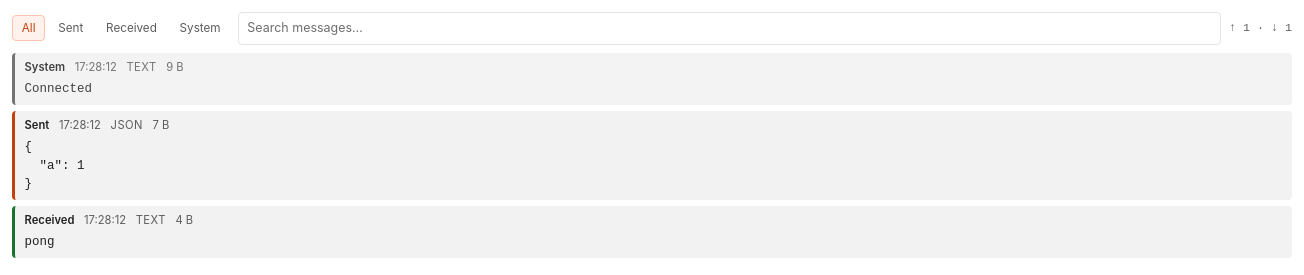
Test: MessageLog › searches payloads
This screenshot has width=1304, height=275.
Type "pong" into the search field with placeholder "Search messages…".
click(730, 28); type("pong")  # box left=238, top=12, right=1221, bottom=45
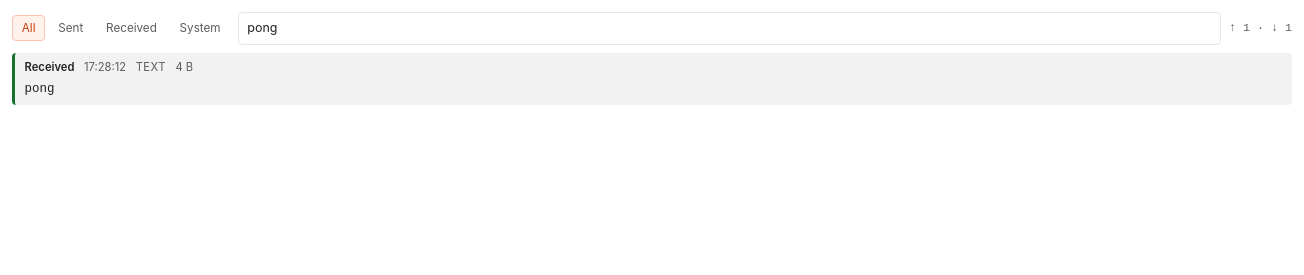
expect the text "pong" is shown: met, box left=25, top=82, right=54, bottom=96
expect the text "Connected" is gone: met
